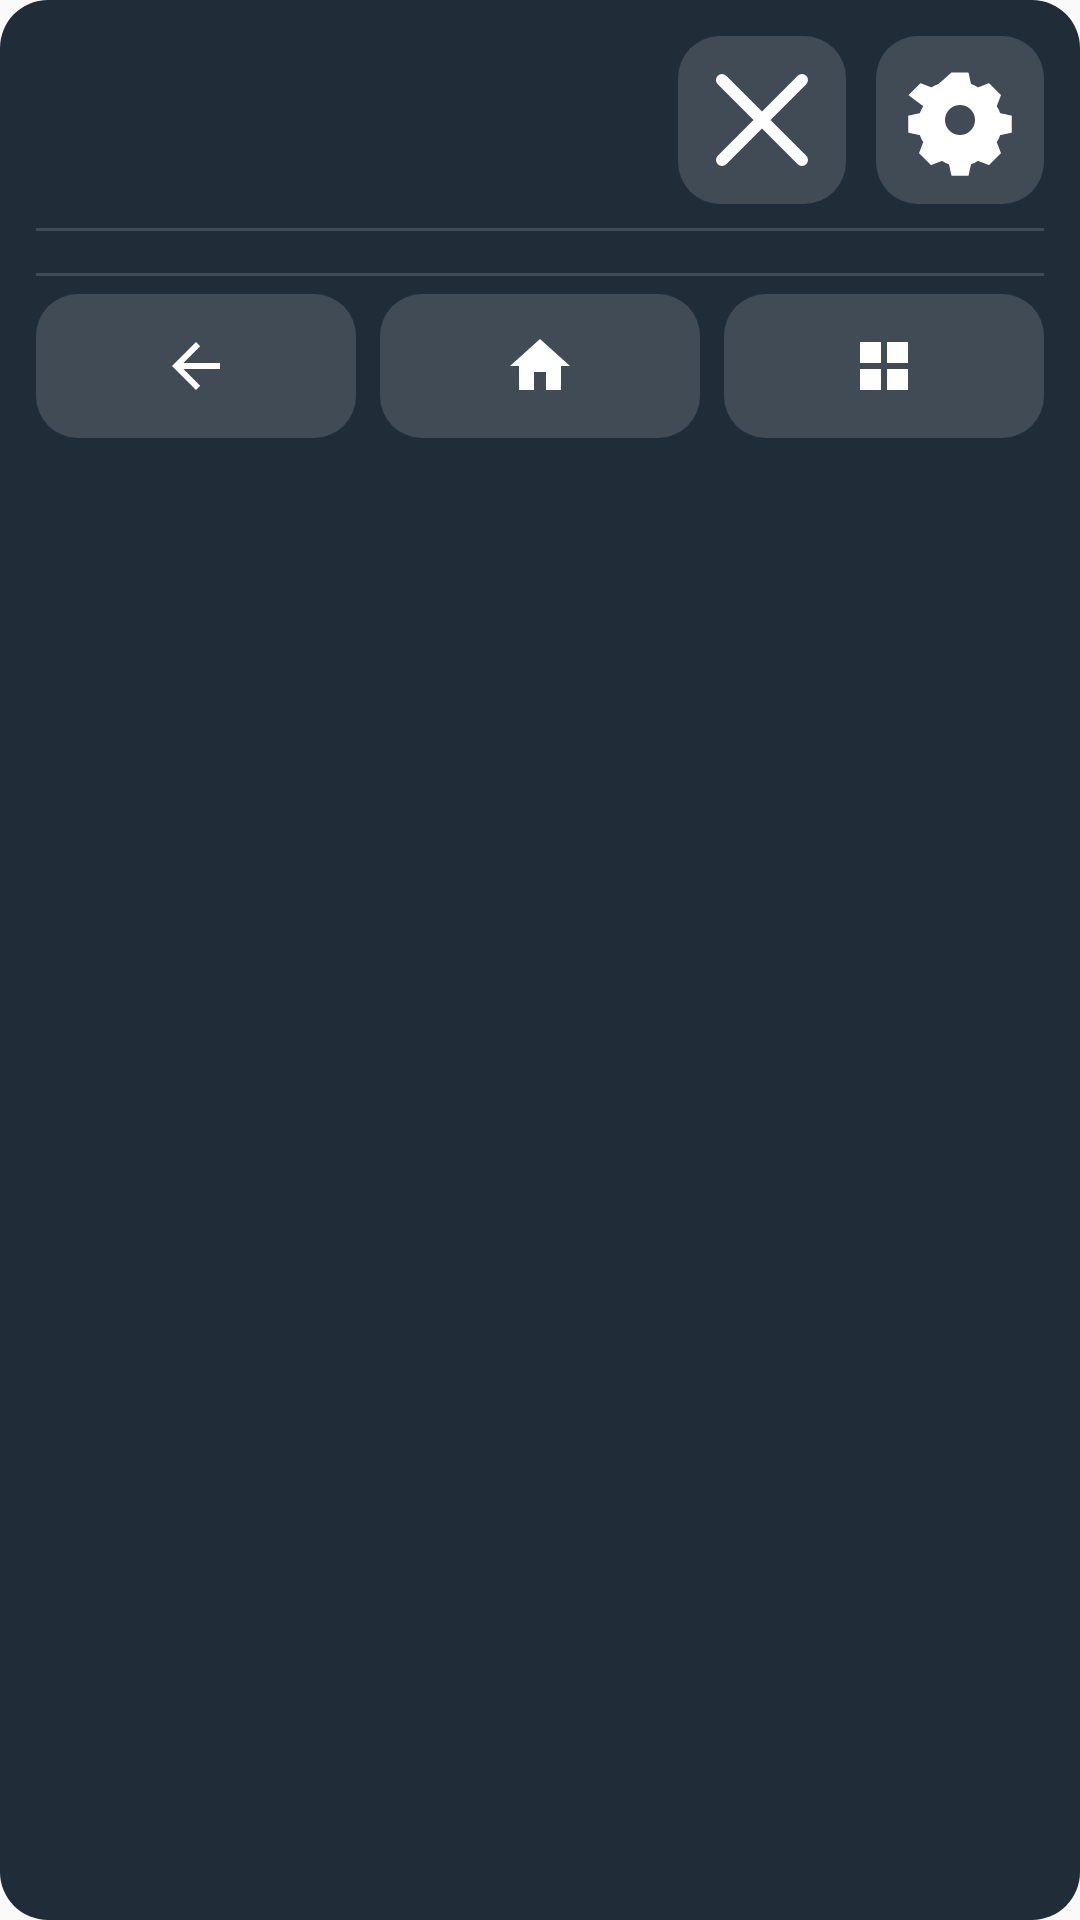

Named icons in this screenshot (1080w x 1920h) and their bounding boxes, (x1, y1, x2, y2):
主页: (380, 294, 700, 438)
多任务: (724, 294, 1044, 438)
收起面板: (678, 36, 846, 204)
设置: (876, 36, 1044, 204)
返回: (36, 294, 356, 438)
